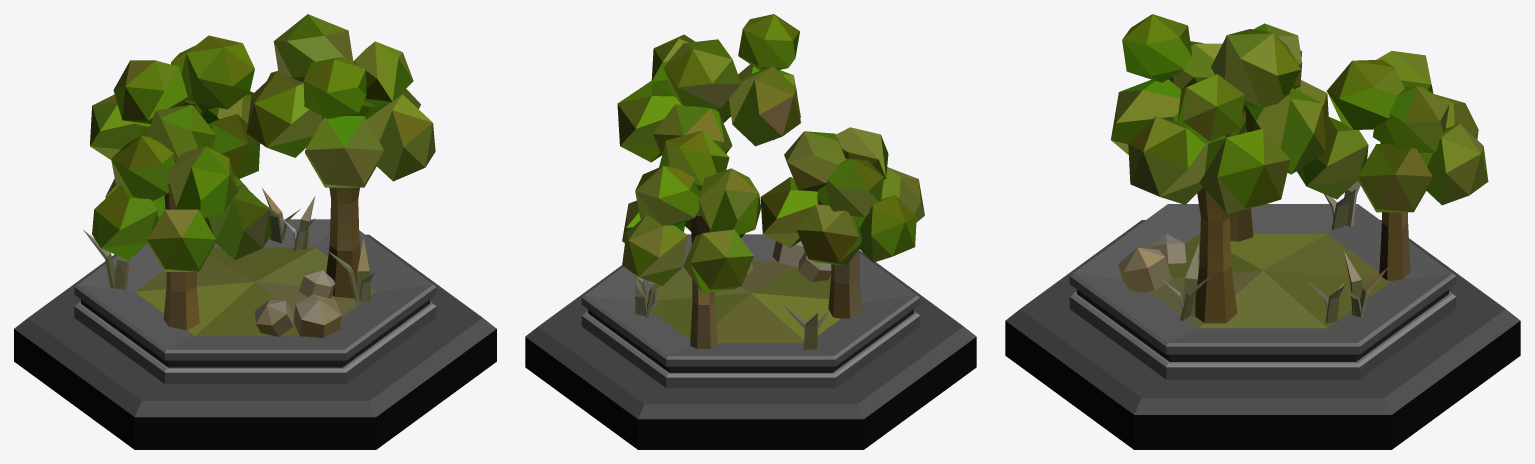
The model's file is hex_forestTile.fbx.
3 views of the same model, side by side, from view 1: azimuth 30°, elevation 25°; view 2: azimuth 150°, elevation 25°; view 3: azimuth 270°, elevation 25° (orthographic). The views are drawn at different scales.
Parts seen in each view (by area): view 1: hex_forestTile; view 2: hex_forestTile; view 3: hex_forestTile.
Part boxes in pixels (bbox=[...]): hex_forestTile: bbox=[14, 14, 496, 449]; hex_forestTile: bbox=[525, 14, 976, 449]; hex_forestTile: bbox=[1005, 14, 1520, 449].
Bounding box in the file's own units: 1.73 × 1.52 × 2.
